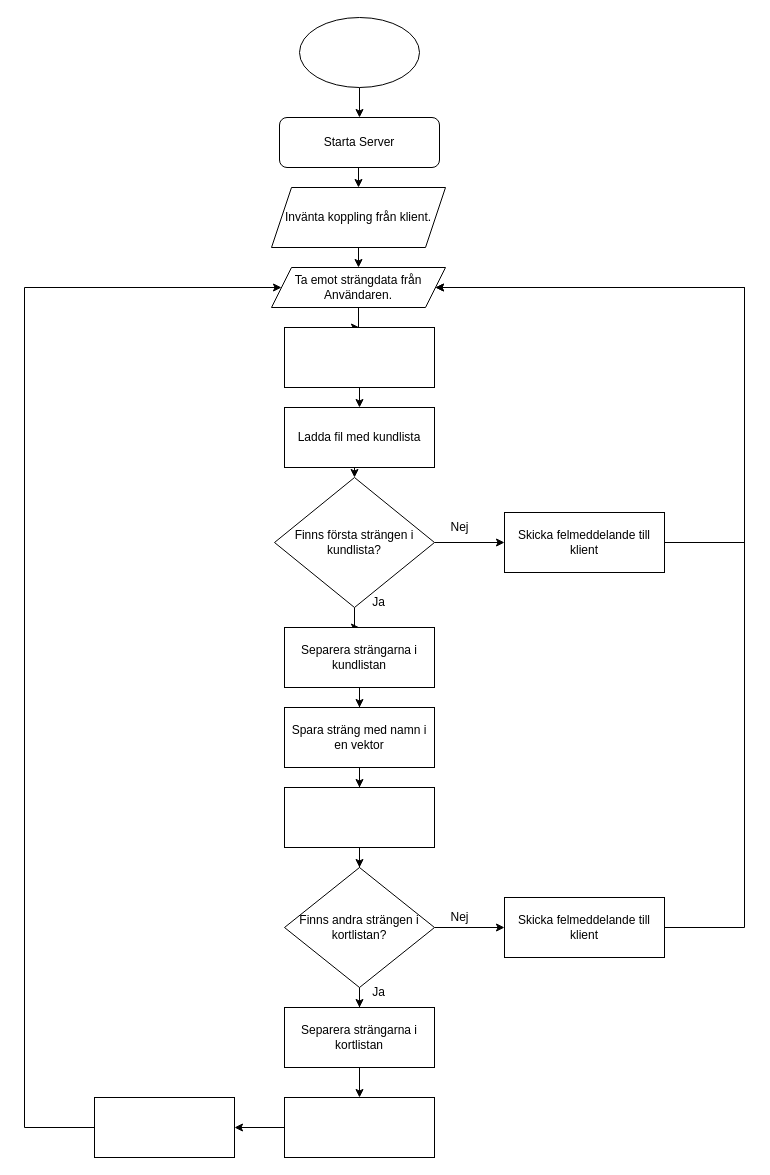
The diagram is 770 pixels wide and 1175 high, and some of its shapes have lost their labels. The shapes that lost their labels are listed below. From the top down, each one's centre as x and y in pixels, then its label:
pixel 359 52: Start
pixel 359 357: Separera strängdata till två strängar.
pixel 359 817: Ladda fil med kortlista
pixel 164 1127: Skicka gratulation till klient
pixel 359 1127: Spara sträng med vinst i en vektor
